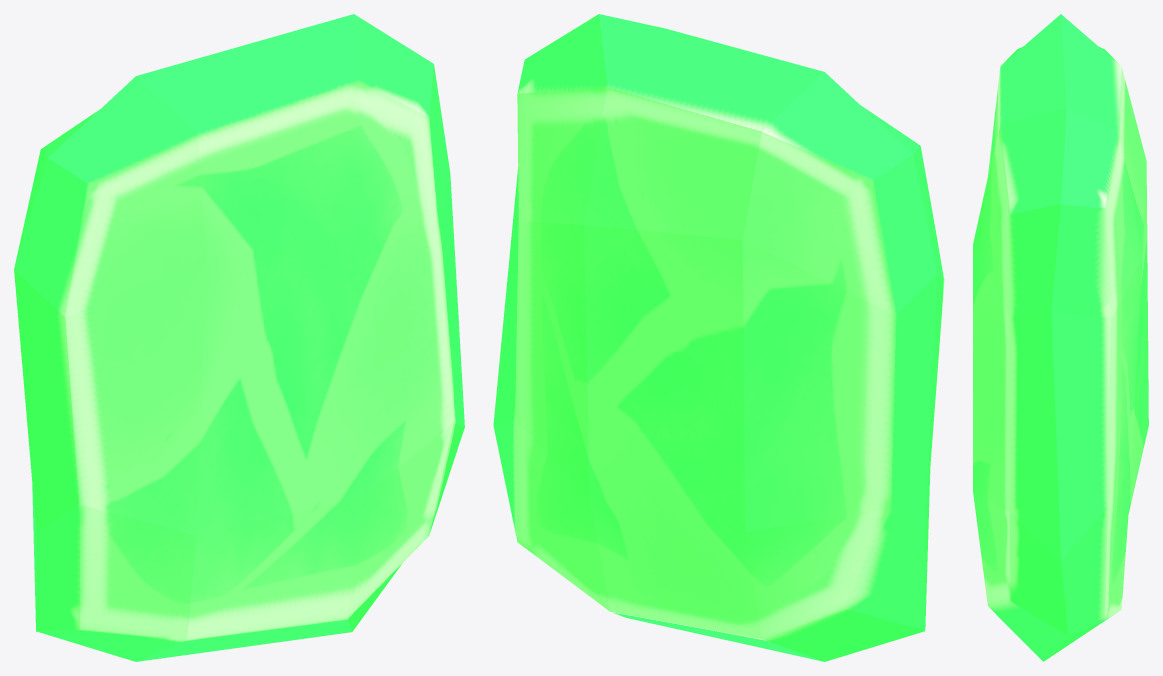
Rendered from Emerald.fbx.
3 renders of one model, left to right at view 1: azimuth 30°, elevation 25°; view 2: azimuth 150°, elevation 25°; view 3: azimuth 270°, elevation 25°, orthographic. The views are drawn at different scales.
Parts seen in each view (by area): view 1: Valuable_Emerald; view 2: Valuable_Emerald; view 3: Valuable_Emerald.
Boxes of the visible parts, <box> form: Valuable_Emerald: <box>14,14,464,661</box>; Valuable_Emerald: <box>493,14,944,661</box>; Valuable_Emerald: <box>973,14,1148,661</box>.
Size of the model in its own units: 85.57 by 111 by 31.58.
